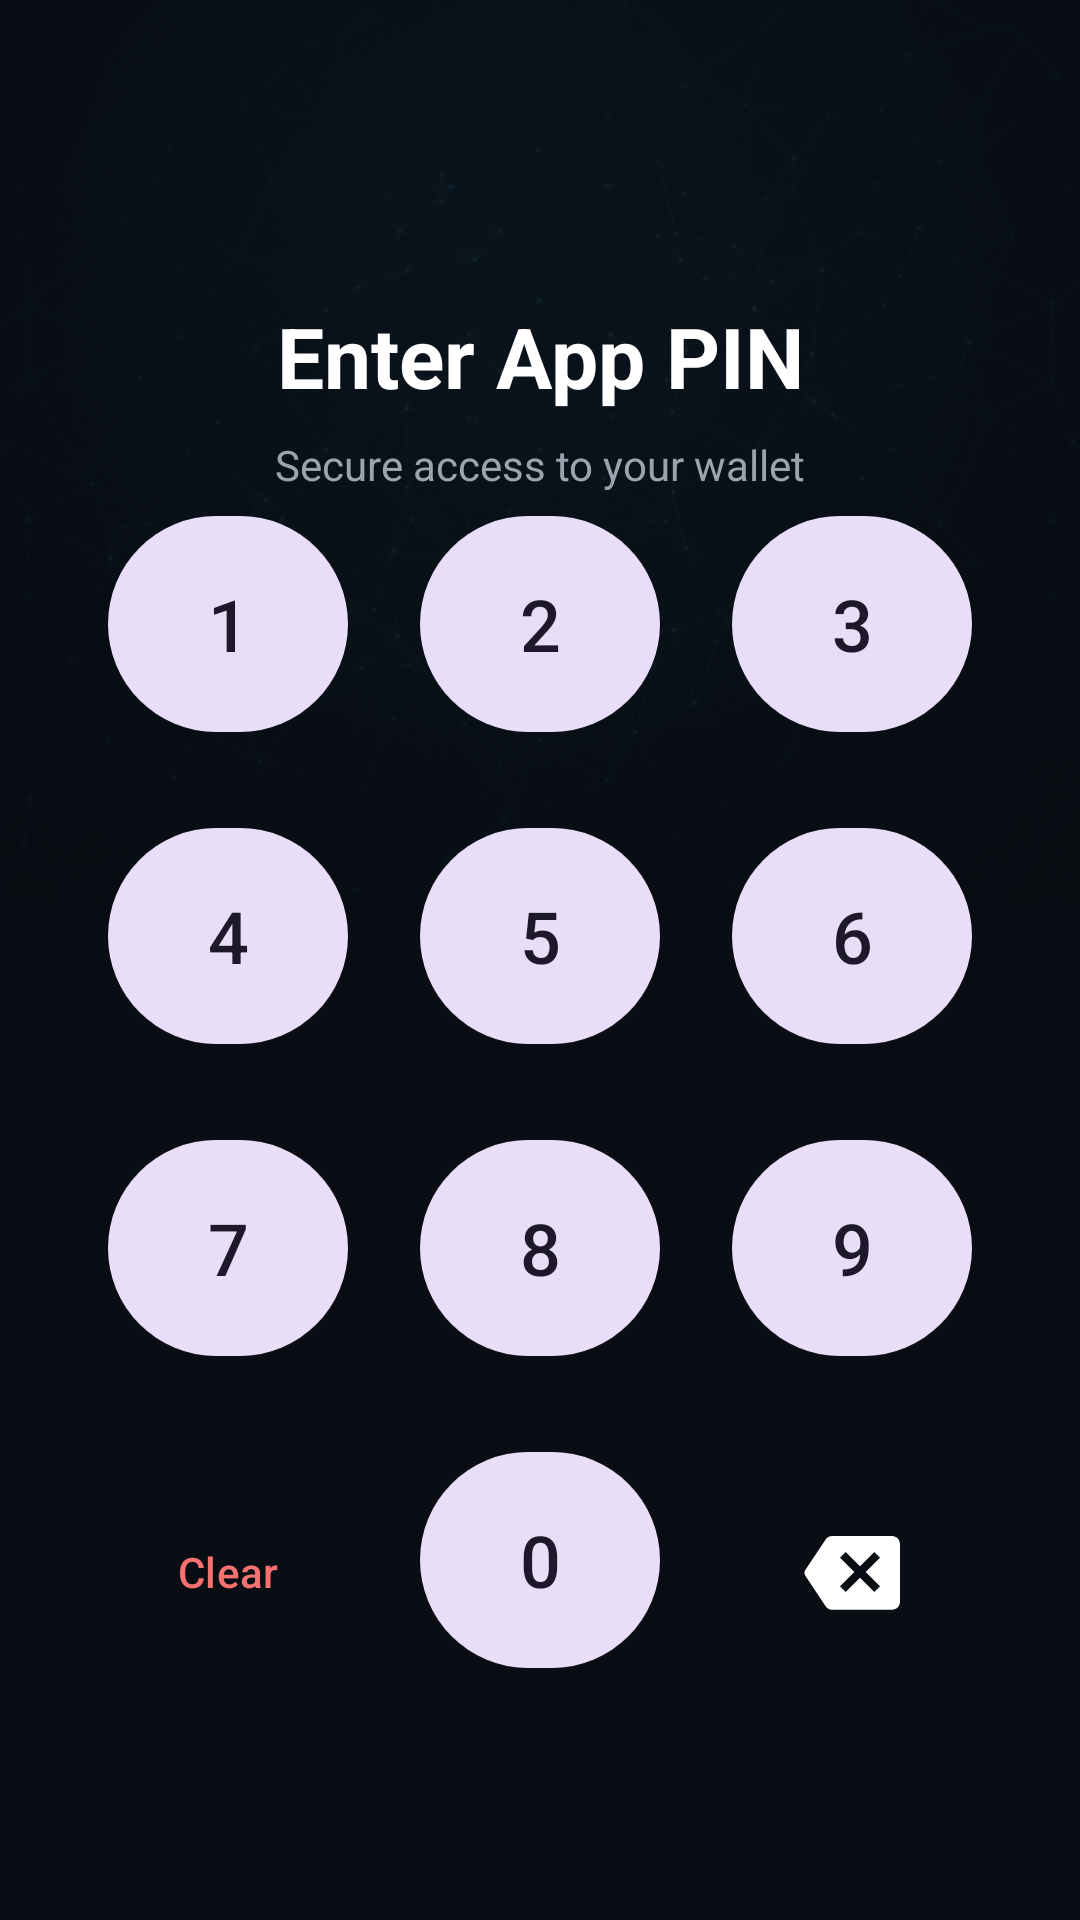

Icons on this 1080px×1920px Android screen, each with its box as [x1=x1, y1=y1, x2=x2, y2=y2]:
backspace: [x1=804, y1=1536, x2=900, y2=1610]
